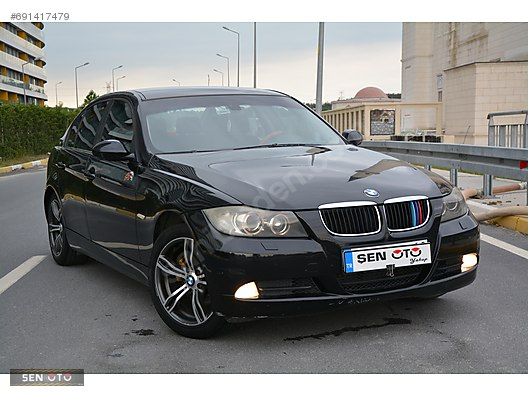bmw: (39, 81, 484, 345)
